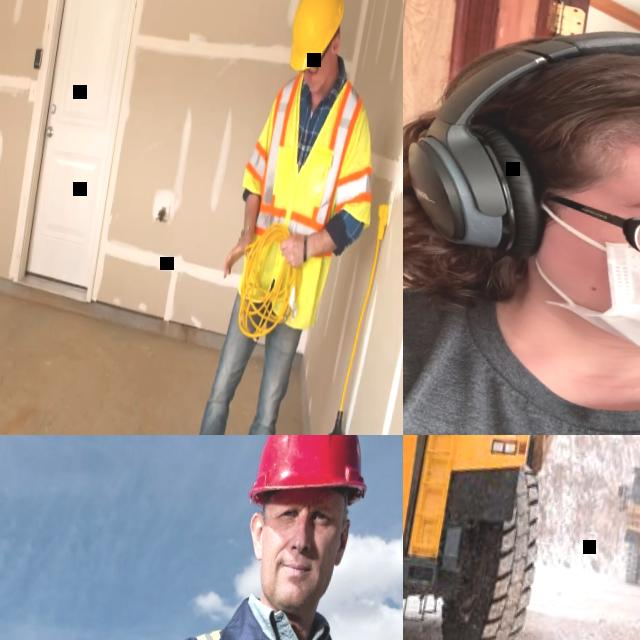Hardhat: (246, 435, 380, 519), (285, 0, 349, 76)
Mask: (512, 213, 640, 395)
NO-Hardhat: (447, 1, 640, 188)
NO-Mask: (252, 543, 337, 617), (307, 57, 332, 98)
NO-Safety Vest: (403, 268, 640, 435)
Person: (162, 0, 403, 435), (403, 0, 640, 435), (75, 435, 403, 640)
Safety Vest: (233, 68, 391, 262)
vehicle: (403, 435, 601, 640), (602, 450, 640, 606)
